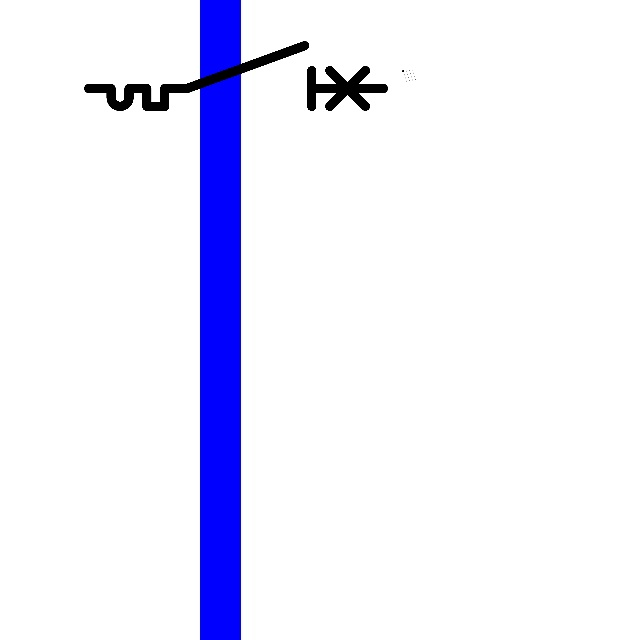interruptor_termomagnetico: (81, 38, 391, 114)
